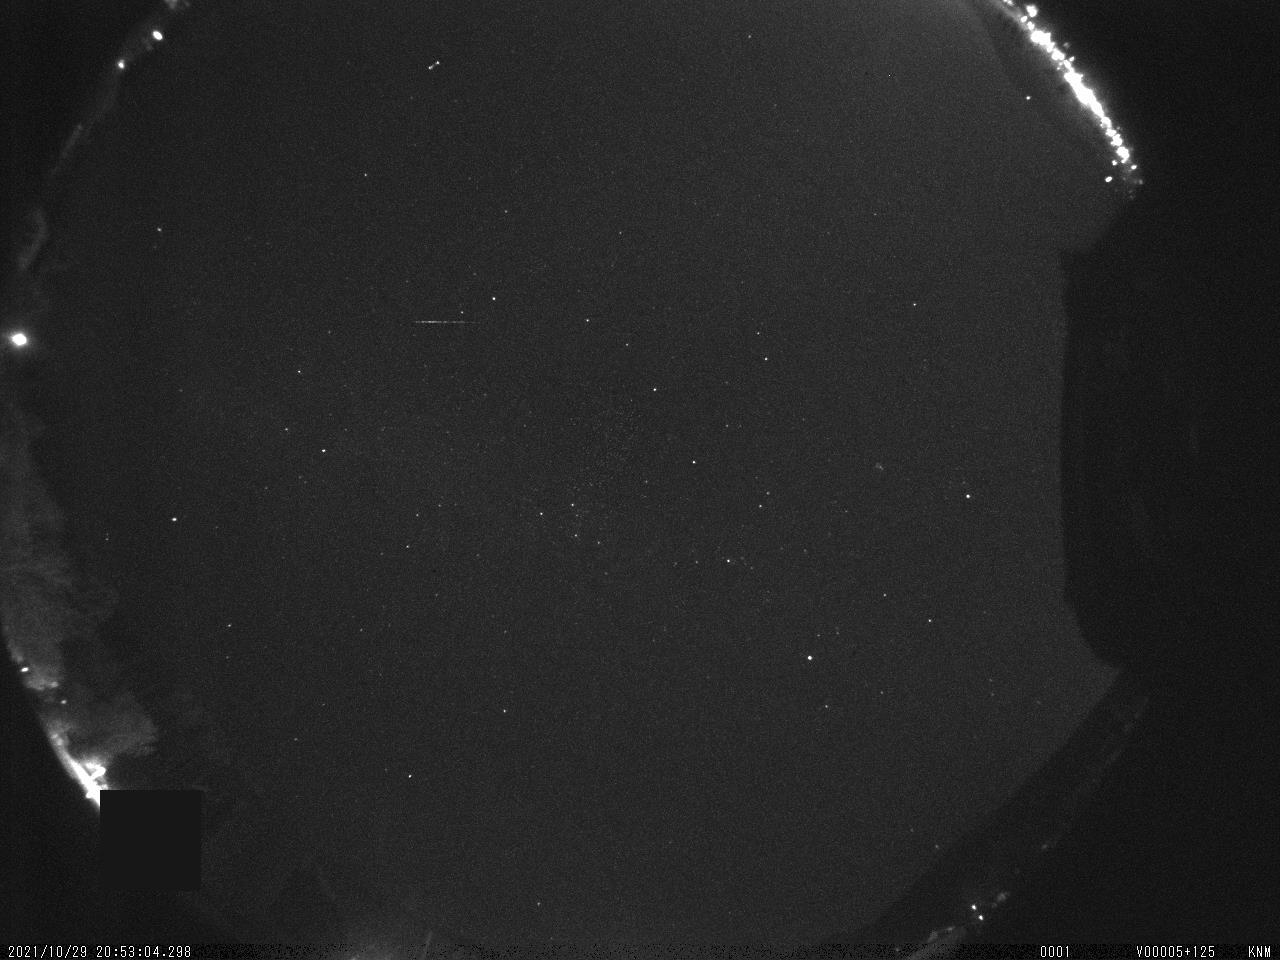meteor: (387, 299, 480, 342)
